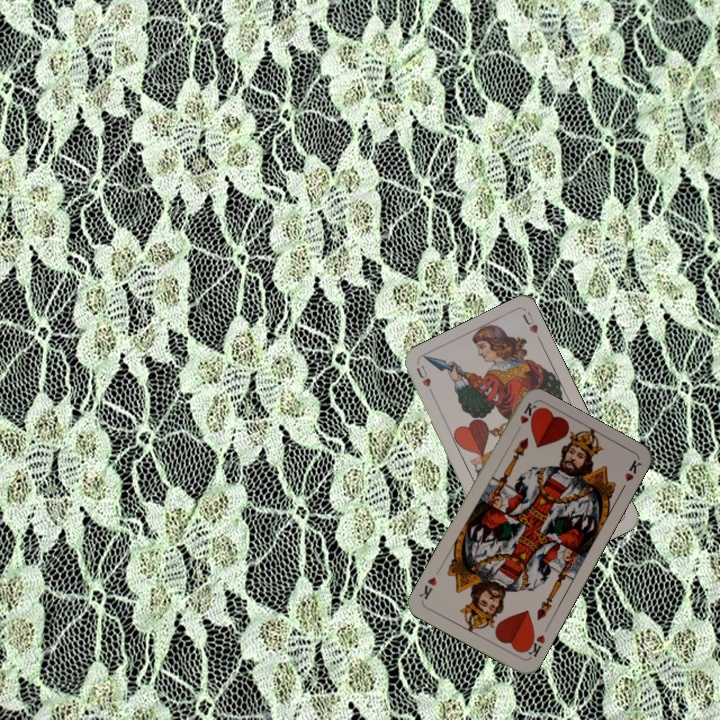HK: (511, 399, 539, 438), (521, 630, 548, 660)
HU: (412, 361, 437, 399)
